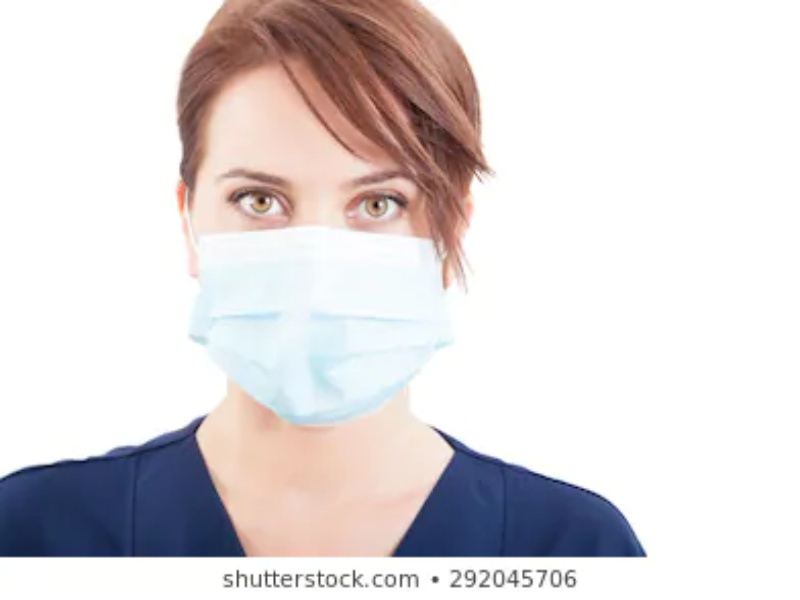ManaoArotava: (156, 16, 482, 449)
